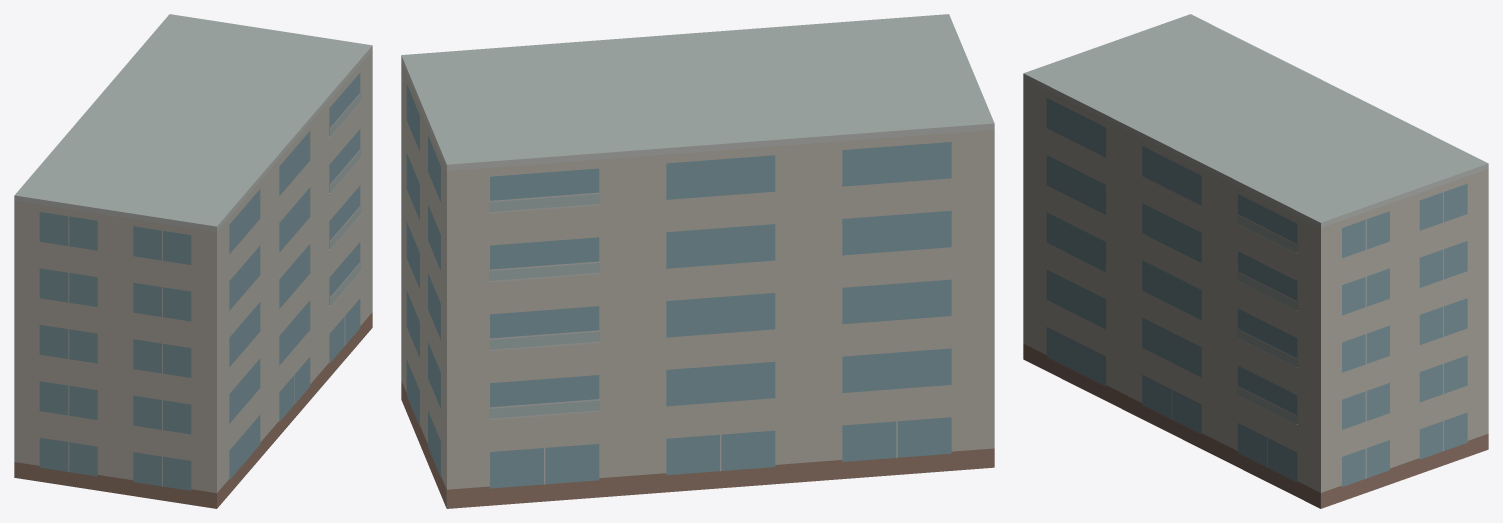
Rendered from survey-upis-32912749.glb.
3 renders of one model, left to right at view 1: azimuth 30°, elevation 25°; view 2: azimuth 150°, elevation 25°; view 3: azimuth 270°, elevation 25°, orthographic. The views are drawn at different scales.
Visible parts, largest first — view 1: survey-upis-32912749.tmp; view 2: survey-upis-32912749.tmp; view 3: survey-upis-32912749.tmp.
Boxes of the visible parts, <box> form: survey-upis-32912749.tmp: <box>14,14,372,508</box>; survey-upis-32912749.tmp: <box>401,14,994,508</box>; survey-upis-32912749.tmp: <box>1023,14,1488,508</box>.
Size of the model in its own units: 21.15 by 13.5 by 19.91.
